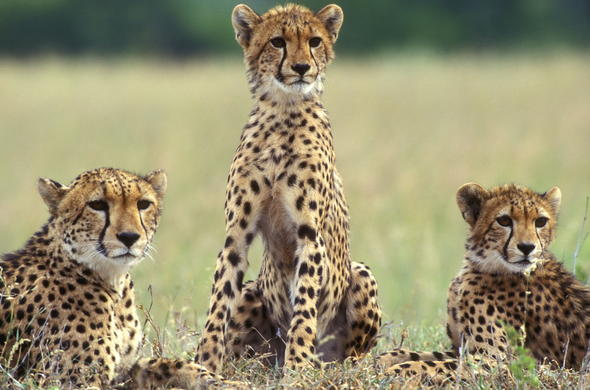cheetah: (28, 156, 184, 286), (431, 163, 572, 288), (225, 1, 348, 120)
